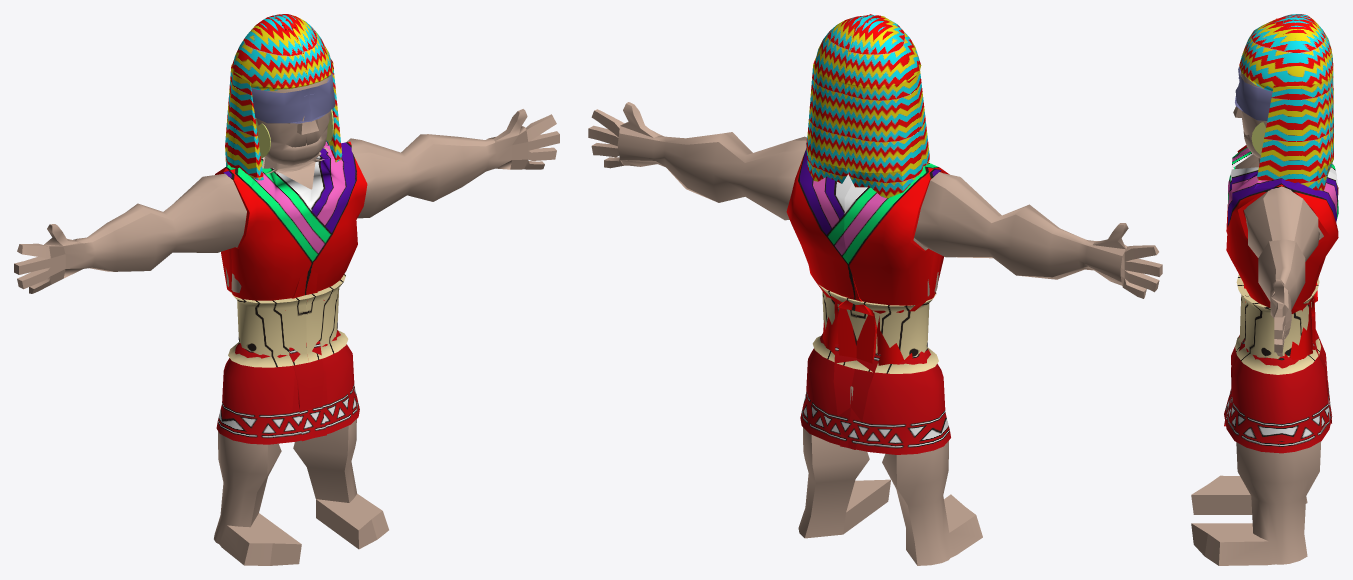
File: chava.fbx
The picture shows the model from 3 angles, left to right: view 1: azimuth 30°, elevation 25°; view 2: azimuth 150°, elevation 25°; view 3: azimuth 270°, elevation 25°; orthographic projection. The views are drawn at different scales.
Visible parts, largest first — view 1: pCylinder4, pCylinder8, pCylinder1, pCylinder3, pSphere1, pCylinder5, pPipe1, pCylinder7, pPipe3, pSphere3, pPipe2, pSphere2 (+2 smaller); view 2: pCylinder4, pCylinder8, pSphere1, pCylinder1, pCylinder3, pCylinder5, pSphere3, pCylinder7, pPipe1, pPipe3; view 3: pCylinder8, pSphere3, pCylinder7, pCylinder5, pPipe3, pCylinder4, pPipe4, pCylinder1, pSphere4, pSphere1, pCylinder3, pCylinder9.
Boxes of the visible parts, x1,y1,x2,y2 form: pCylinder4: (14,157,313,565); pCylinder8: (279,109,559,549); pCylinder1: (215,157,324,300); pCylinder3: (216,340,326,444); pSphere1: (225,15,309,180); pCylinder5: (285,141,367,310); pPipe1: (228,291,308,367); pCylinder7: (289,330,359,441); pPipe3: (304,274,348,362); pSphere3: (273,14,342,162); pPipe2: (251,88,310,123); pSphere2: (256,86,311,165); pCylinder4: (852,172,1162,565); pCylinder8: (588,102,890,538); pSphere1: (845,14,929,198); pCylinder1: (837,162,949,365); pCylinder3: (833,344,950,454); pCylinder5: (786,139,876,363); pSphere3: (806,15,885,183); pCylinder7: (800,333,880,449); pPipe1: (837,292,938,373); pPipe3: (812,284,855,362); pCylinder8: (1191,158,1325,565); pSphere3: (1239,16,1333,190); pCylinder7: (1224,329,1332,453); pCylinder5: (1226,167,1338,359); pPipe3: (1235,282,1319,374); pCylinder4: (1191,154,1307,514); pPipe4: (1235,70,1272,120); pCylinder1: (1226,145,1338,349); pSphere4: (1233,71,1267,158); pSphere1: (1239,14,1333,120); pCylinder3: (1224,339,1331,426); pCylinder9: (1251,122,1265,155).
Size of the model in its own units: 8.13 by 7.18 by 1.87.
8 materials, 4 textured.
